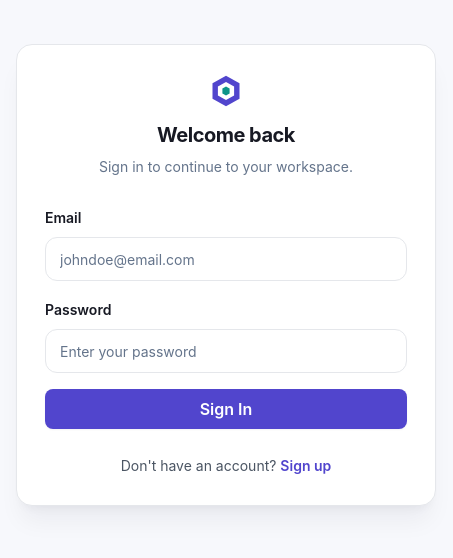
Test: Login Component › shows validation errors for empty fields
What coordinates should you click on to do the following:
click the button "Sign In"
I would click on:
 (226, 409)
Its box is [45,389,407,429].
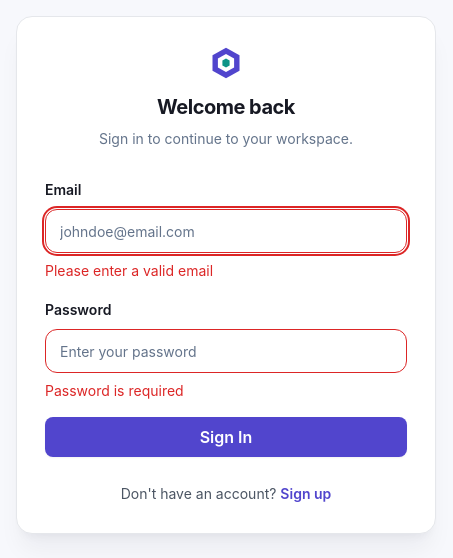
Expected: the text "Please enter a valid email" is shown, [45,262,213,279]
Expected: the text "Password is required" is shown, [45,382,184,399]
